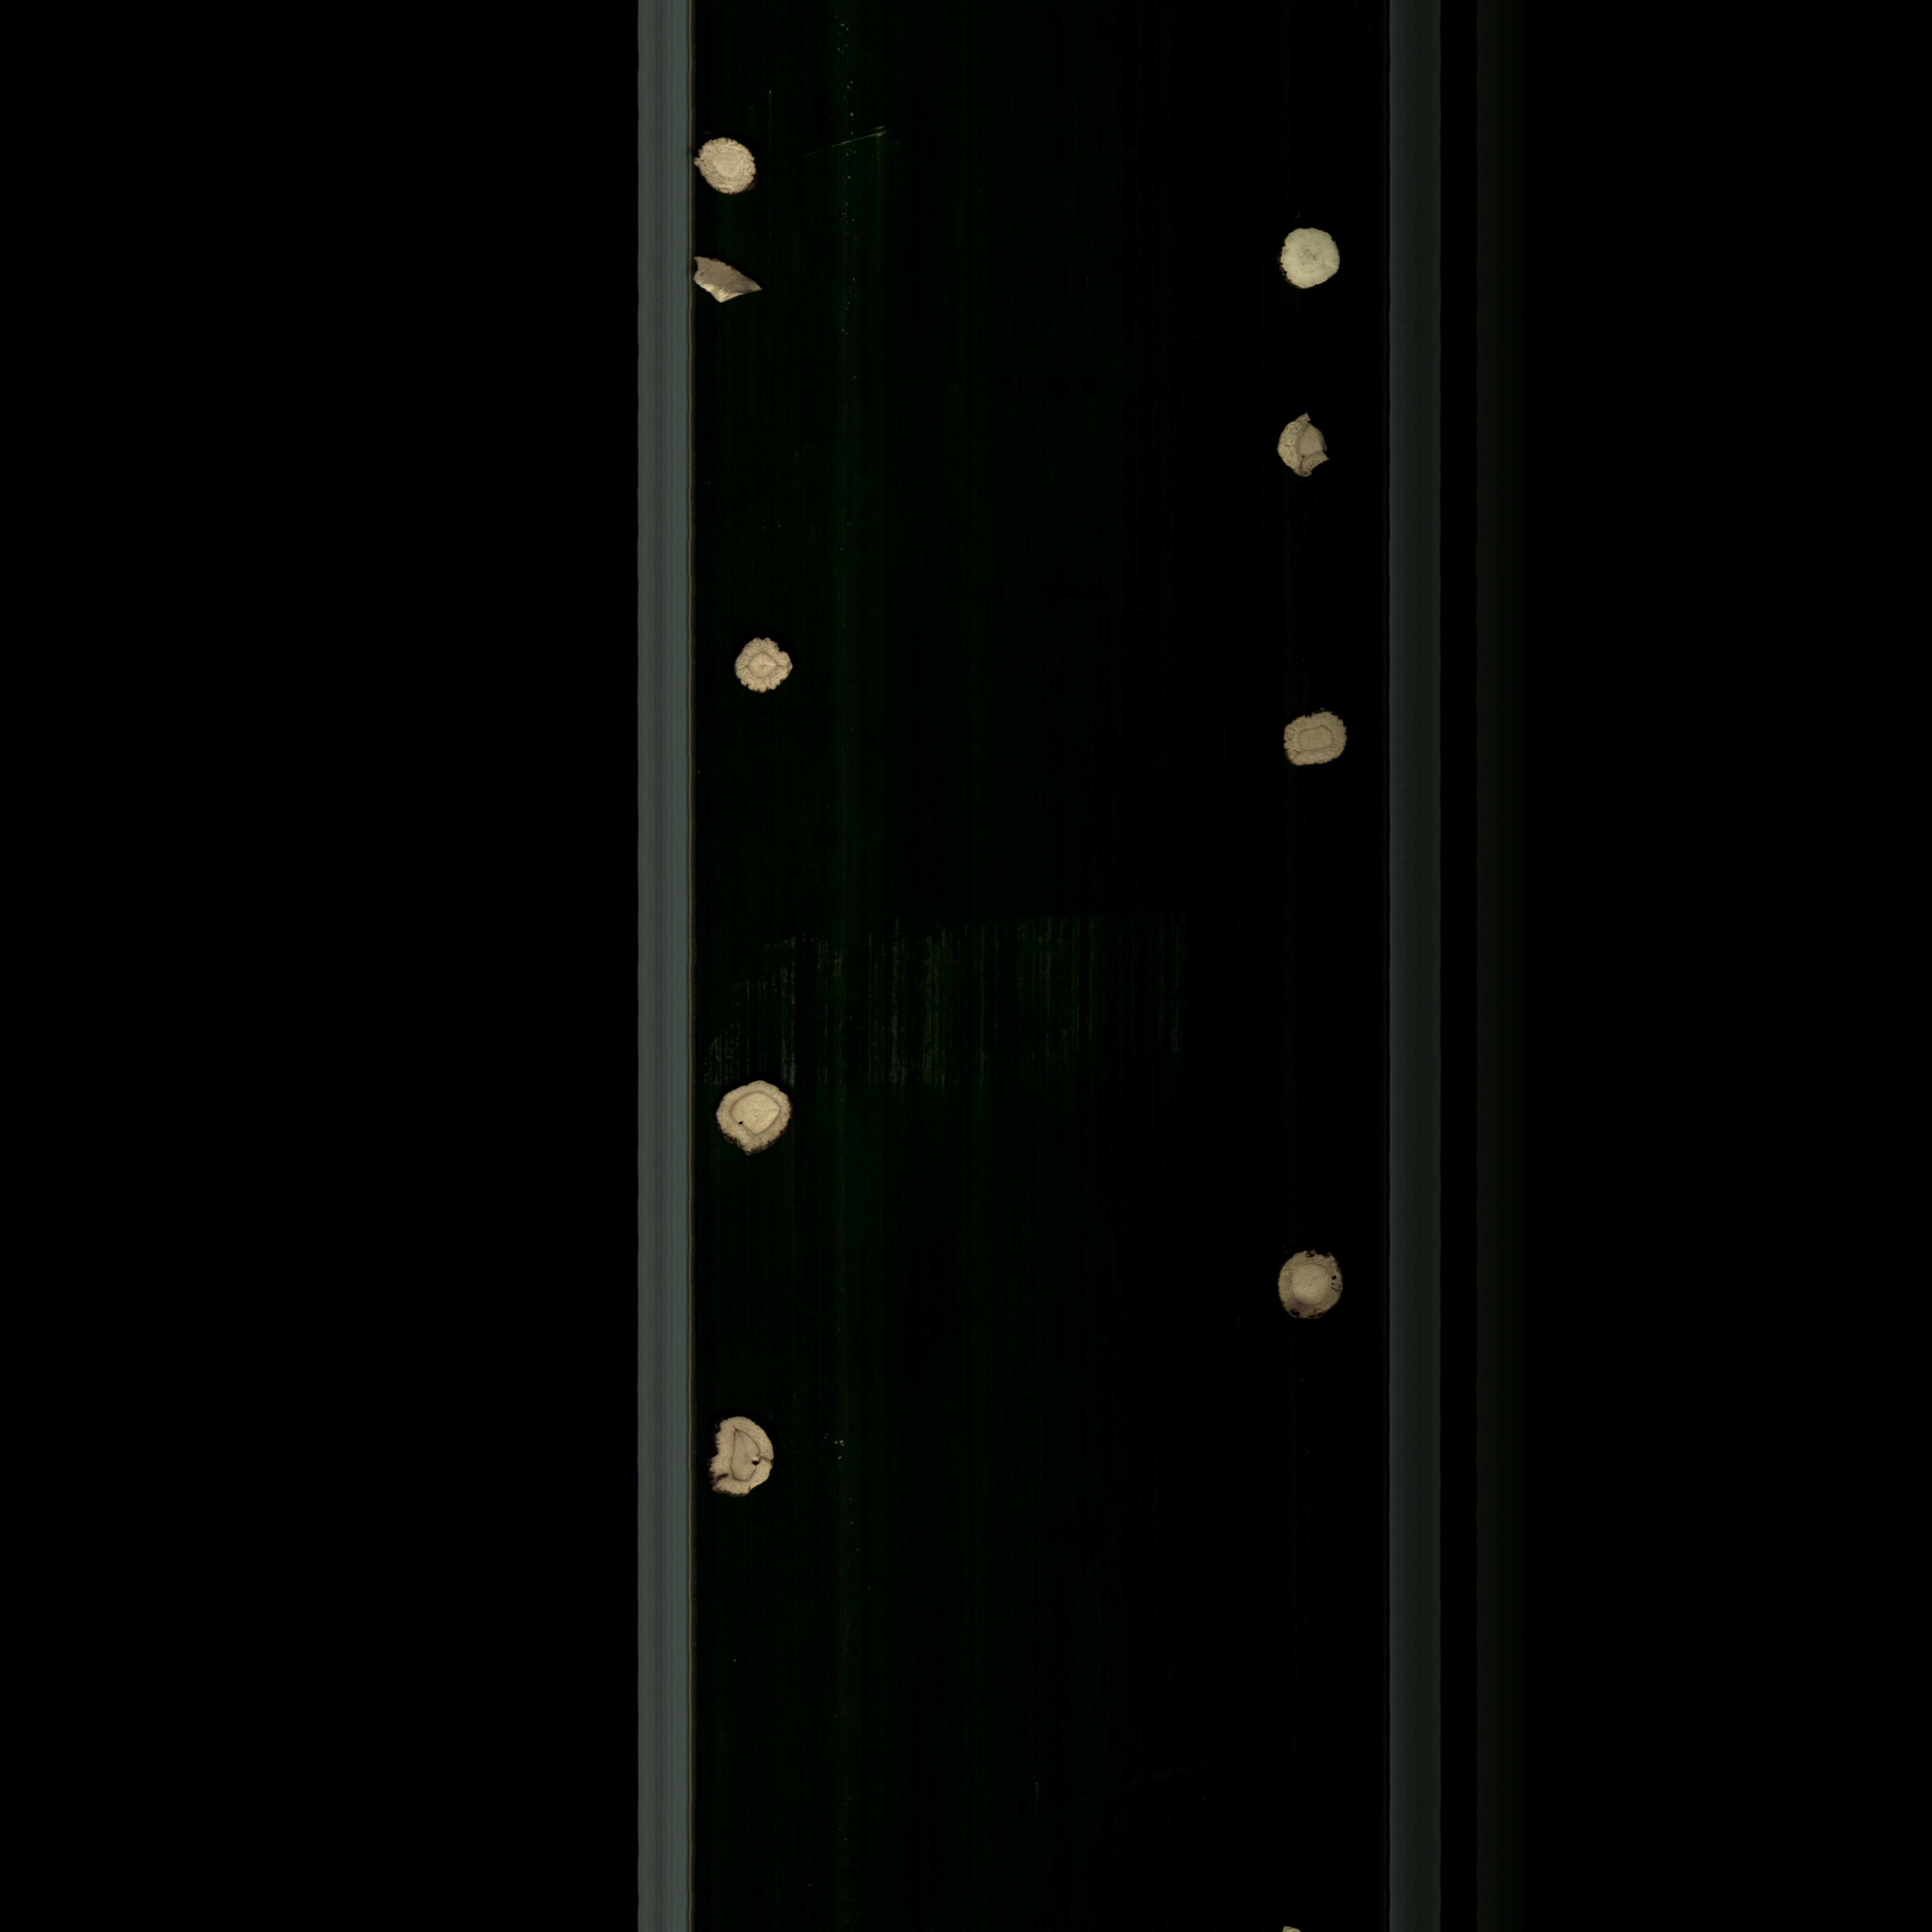debris: (1269, 407, 1341, 487), (688, 253, 777, 317)
distortion: (718, 628, 810, 702), (1267, 711, 1361, 771)
hole: (702, 1067, 805, 1168), (1267, 1238, 1355, 1334)
moldy: (695, 1408, 787, 1504)
